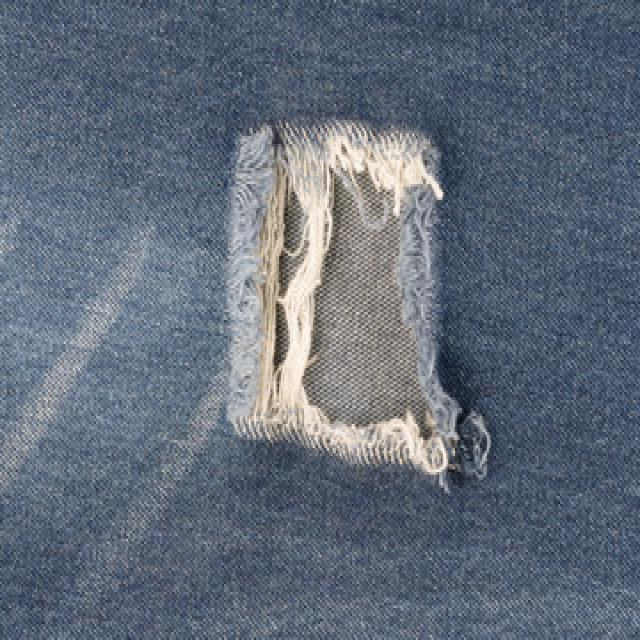Hole: (229, 121, 492, 490)
